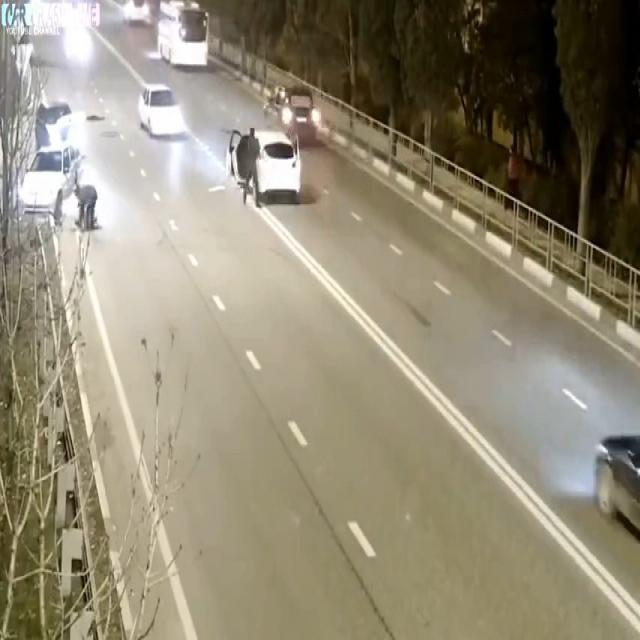Accident: (20, 100, 90, 246)
